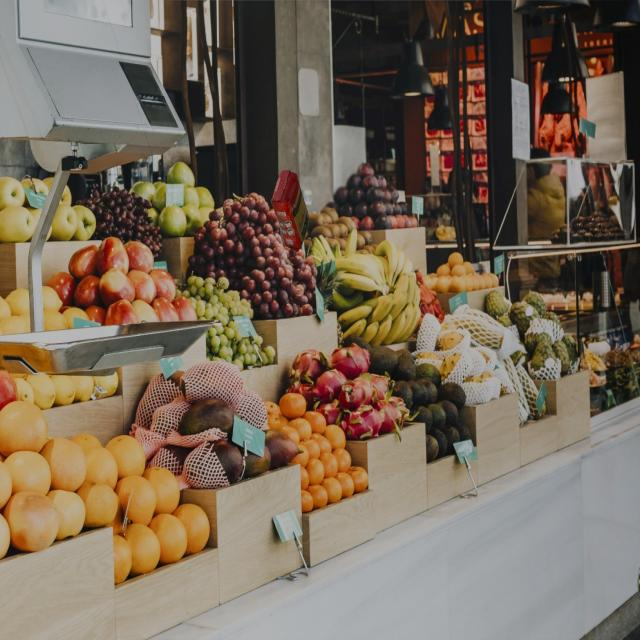mate bag: (273, 165, 310, 257)
